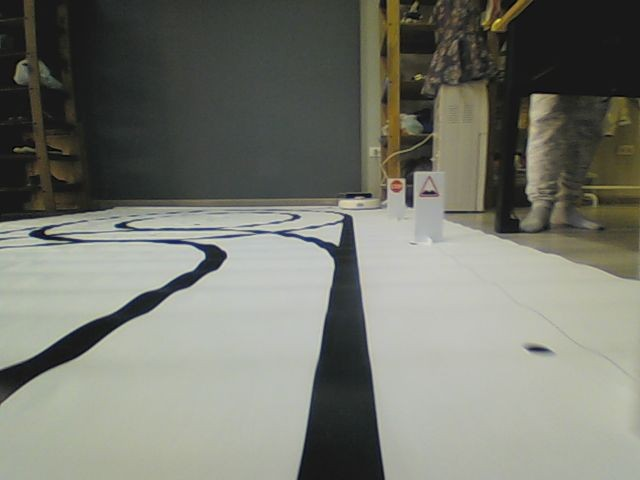Nerov: (417, 175, 440, 198)
